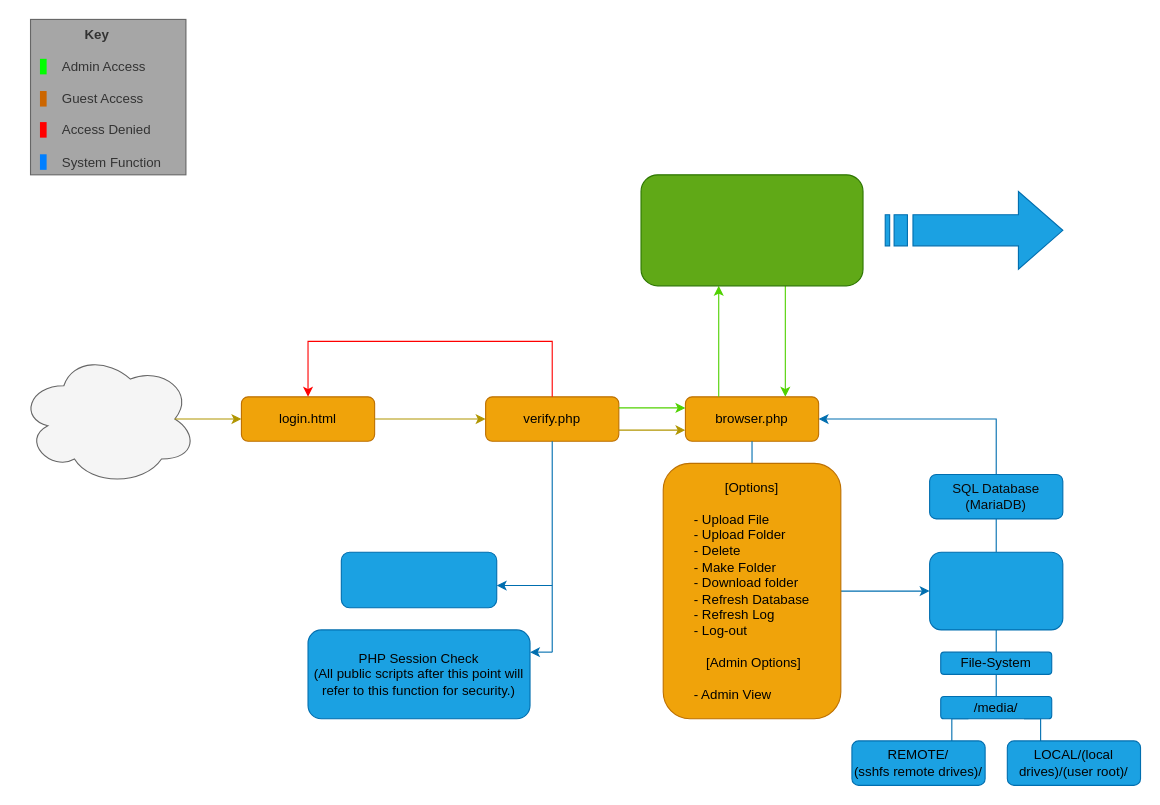
Image size: 1160x805. Some labels were removed from this diagram. Here are the shapes that lost their labels. From the top down, the box of each, then its label:
(640, 174, 863, 286): Admin Folder
(884, 190, 1063, 269): Next Page...
(18, 351, 197, 486): Client Connection
(340, 551, 497, 608): pam-auth.py (Python3 PAM Wrapper)
(929, 551, 1063, 630): DBcontrol.php
